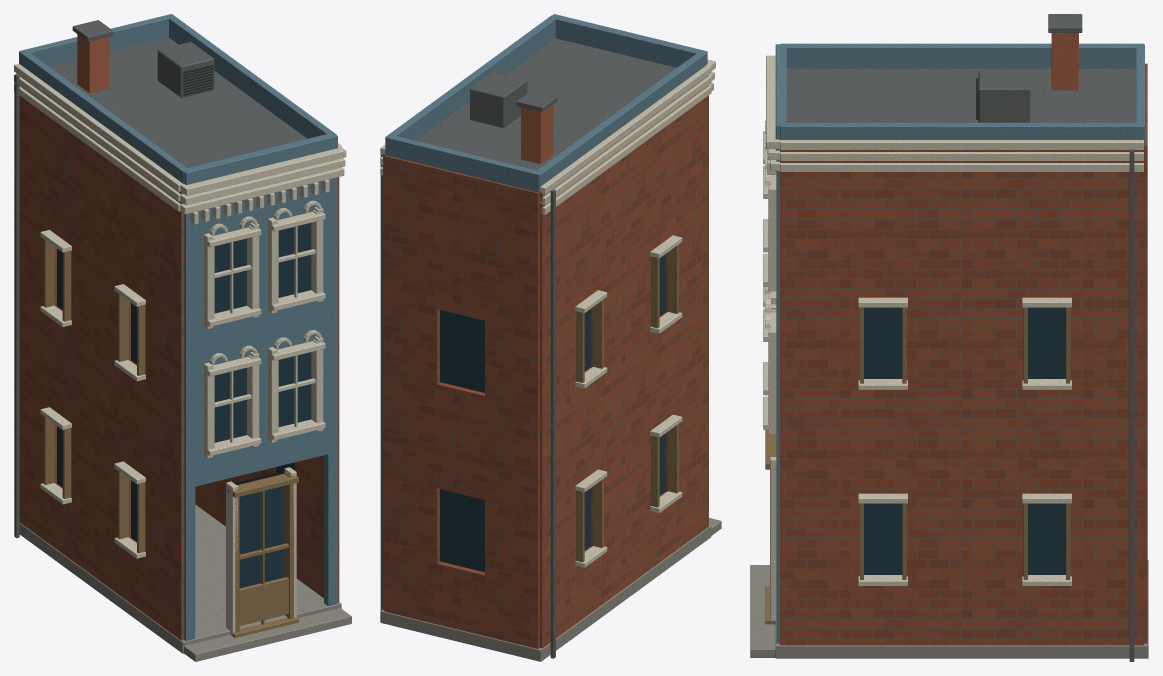
File: VICT11_lod1.glb
3 renders of one model, left to right at view 1: azimuth 30°, elevation 25°; view 2: azimuth 150°, elevation 25°; view 3: azimuth 270°, elevation 25°, orthographic. The views are drawn at different scales.
Visible parts, largest first — view 1: VICT11_LOD1; view 2: VICT11_LOD1; view 3: VICT11_LOD1.
Boxes of the visible parts, x1,y1,x2,y2 form: VICT11_LOD1: (14, 14, 351, 661); VICT11_LOD1: (380, 14, 721, 661); VICT11_LOD1: (750, 14, 1148, 661).
Size of the model in its own units: 3.71 by 10.45 by 6.57.
Materials: 10 (8 with a texture image).
